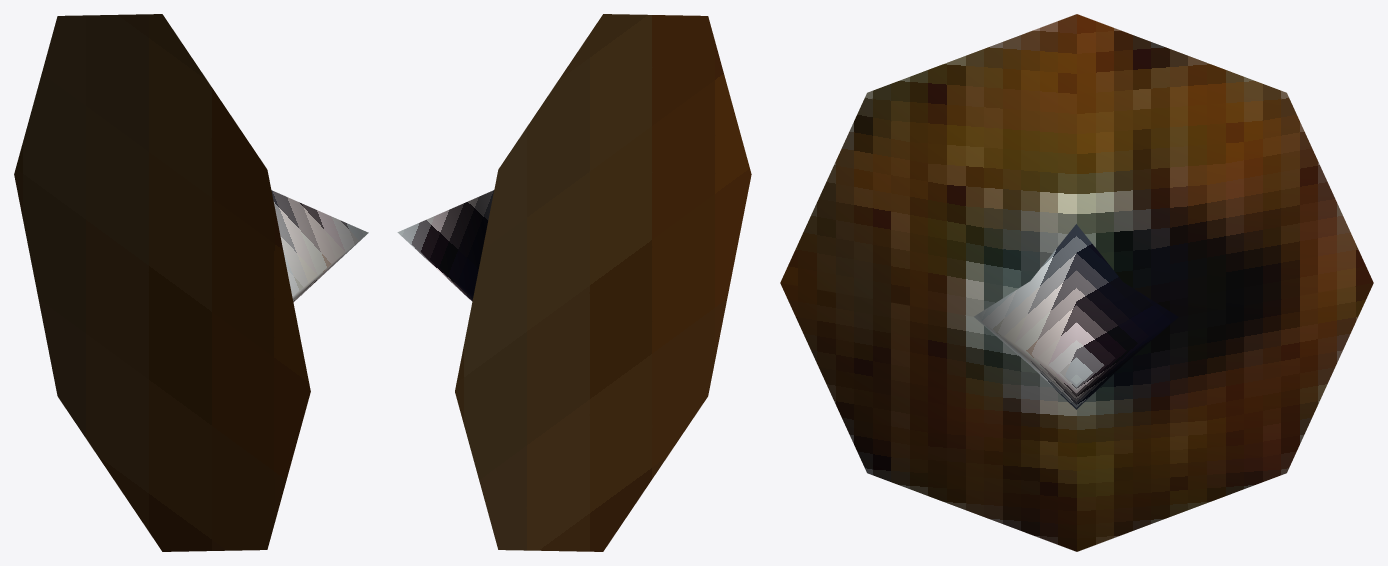
Rendered from Shield01.glb.
3 views of the same model, side by side, from view 1: azimuth 30°, elevation 25°; view 2: azimuth 150°, elevation 25°; view 3: azimuth 270°, elevation 25° (orthographic).
Visible parts, largest first — view 1: model_Shield01; view 2: model_Shield01; view 3: model_Shield01.
Part boxes in pixels (x1=…): model_Shield01: x1=14, y1=14, x2=368, y2=551; model_Shield01: x1=397, y1=14, x2=751, y2=551; model_Shield01: x1=780, y1=14, x2=1373, y2=551.
Size of the model in its own units: 0.2165 by 0.5398 by 0.5398.
Materials: 1 (1 with a texture image).
